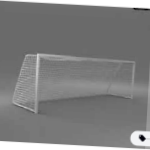goals: (11, 52, 137, 116)
